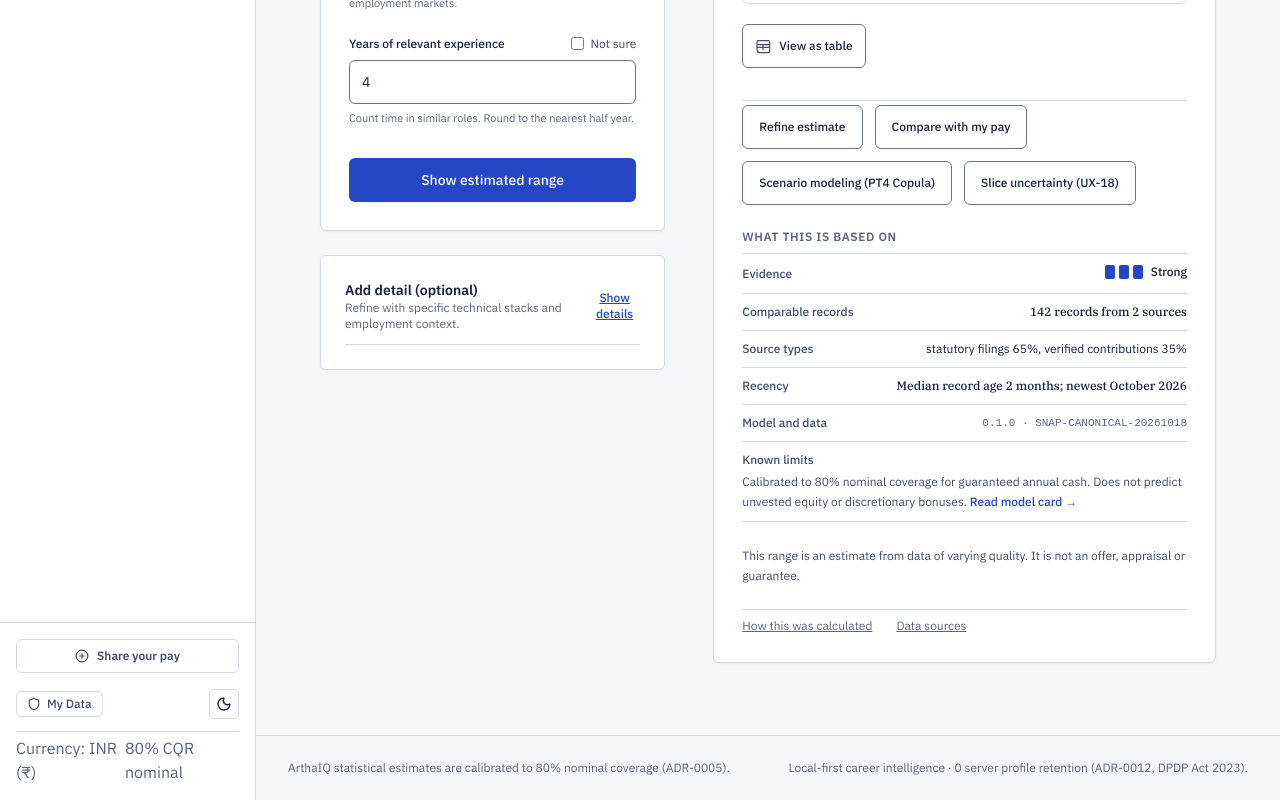
Test: NavigationShell (T15.28 Responsive Layout & Navigation) › opens and closes share your pay and my data modal dialogs
(page scrolled)
# Open contribution modal
Click the button "Share your pay" at (128, 656), box [16,640,239,674]
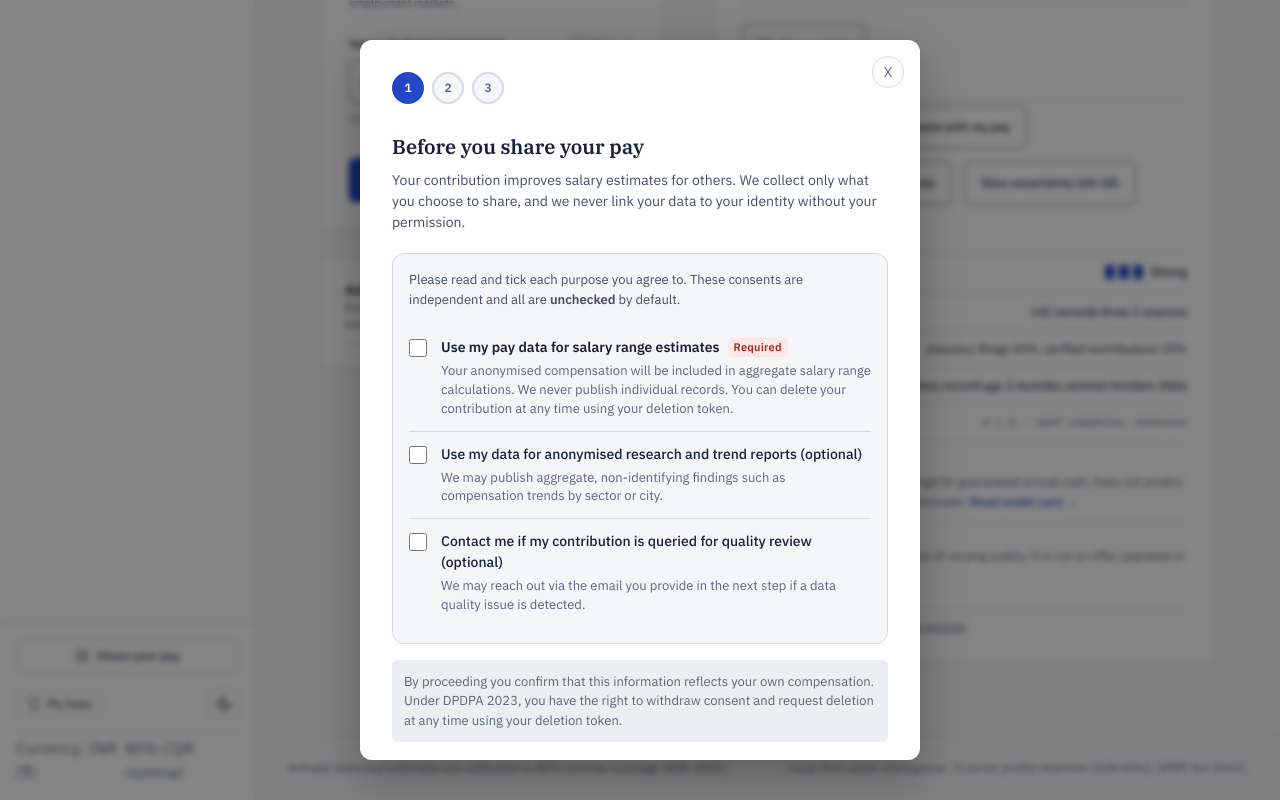
Expected: the dialog named "contribute your pay data" is shown
# Close modal
Click the button named "close contribution form" at (888, 72), box [872,56,904,88]
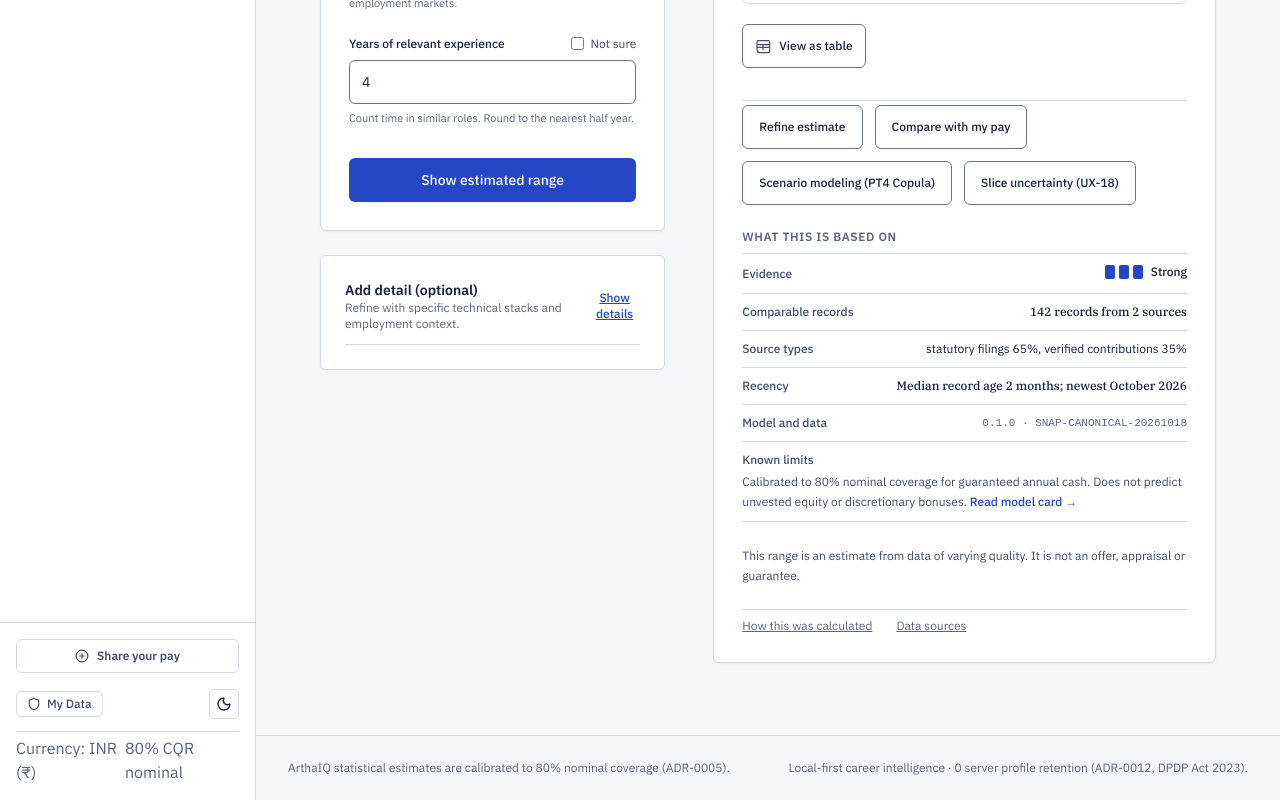
Click the button "My Data" at (59, 704), box [16,692,102,718]
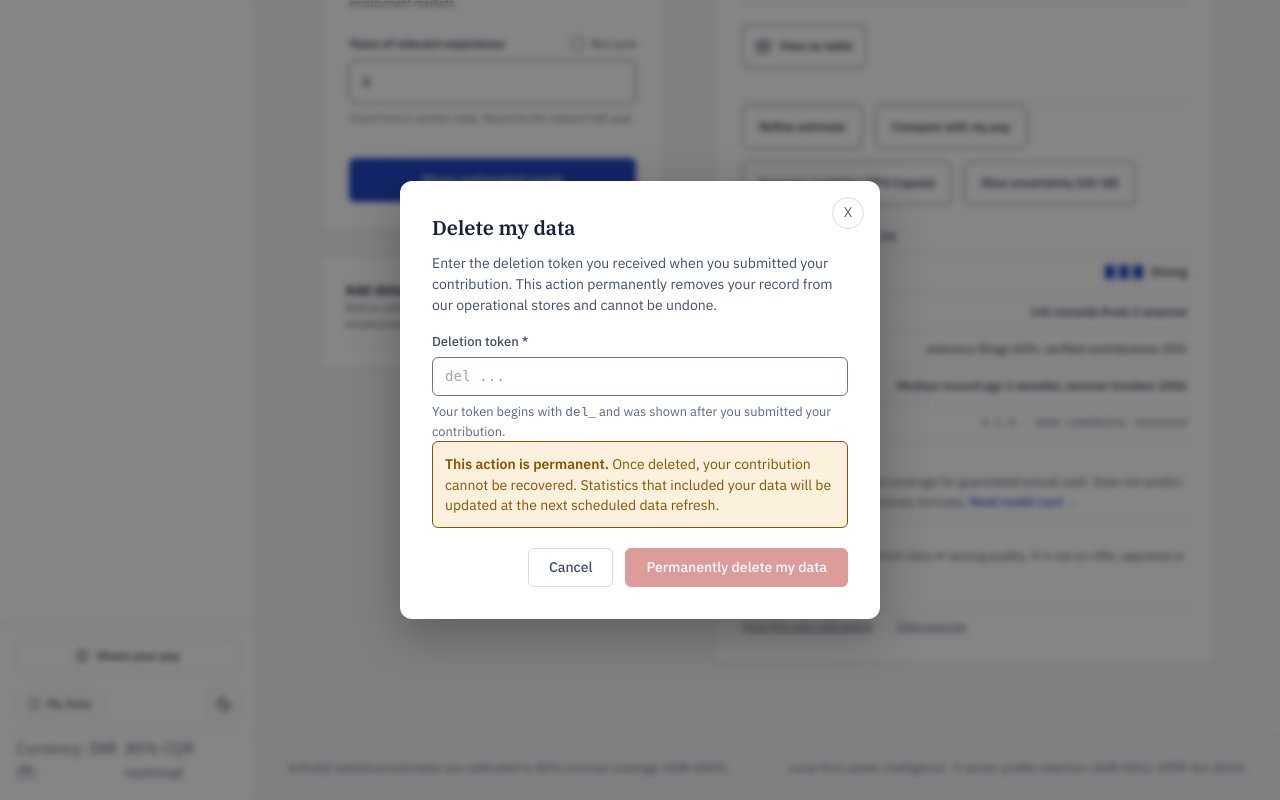
Expected: the dialog "Delete my data" is shown
